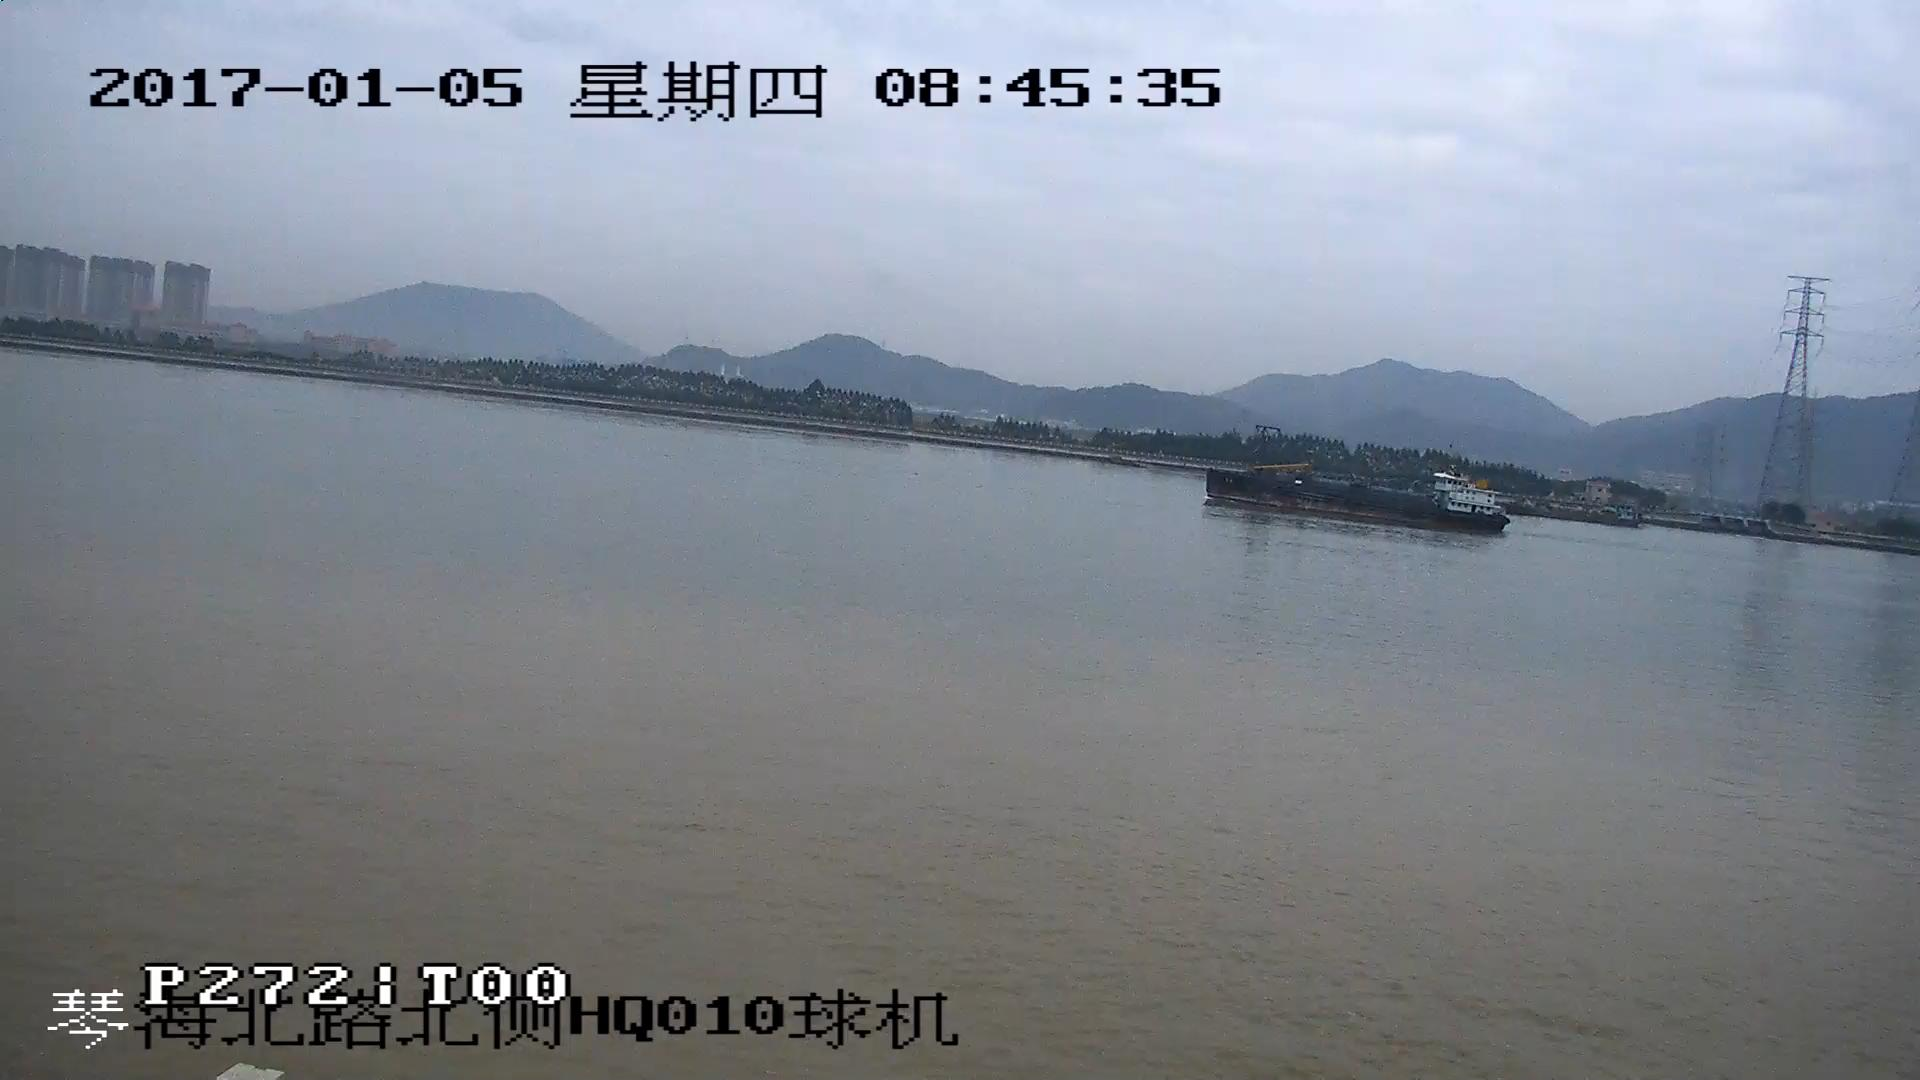bulk cargo carrier: (1211, 433, 1506, 536)
